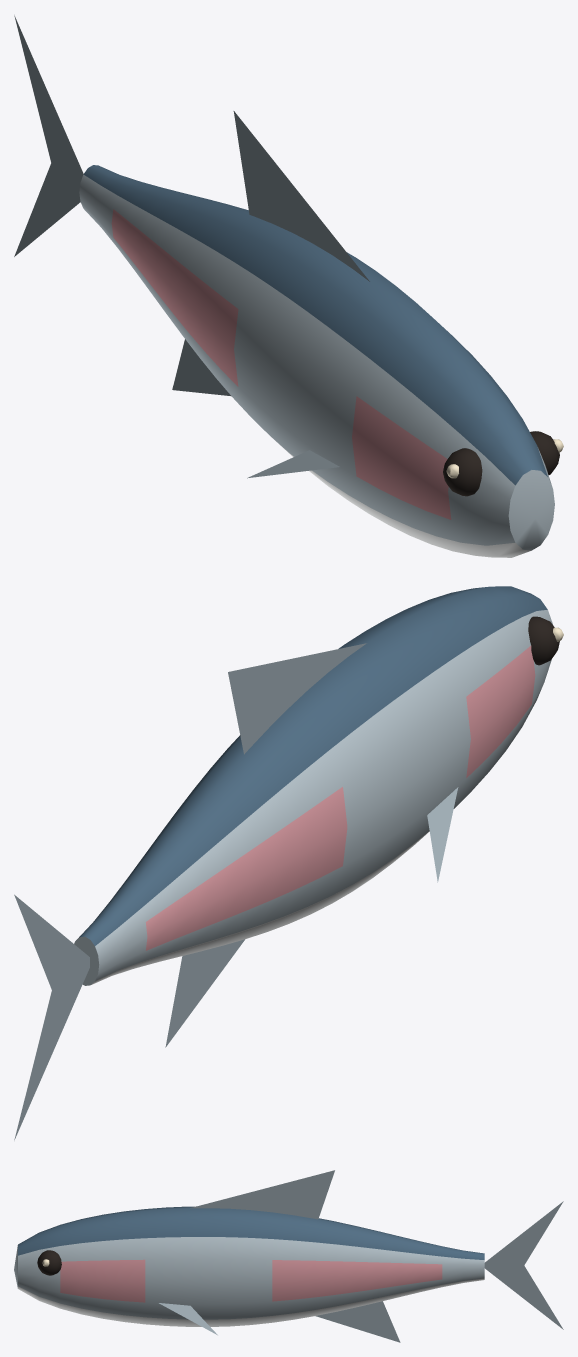
File: steelhead.fbx
The picture shows the model from 3 angles, top to bottom: view 1: azimuth 30°, elevation 25°; view 2: azimuth 150°, elevation 25°; view 3: azimuth 270°, elevation 25°; orthographic projection. The views are drawn at different scales.
Visible parts, largest first — view 1: Fish_steelhead_EXP; view 2: Fish_steelhead_EXP; view 3: Fish_steelhead_EXP.
Boxes of the visible parts, box(x1,y1,x2,y2) form: Fish_steelhead_EXP: box(14, 15, 563, 557); Fish_steelhead_EXP: box(14, 586, 563, 1140); Fish_steelhead_EXP: box(14, 1170, 563, 1342).
Size of the model in its own units: 0.1656 by 0.2655 by 0.7659.
